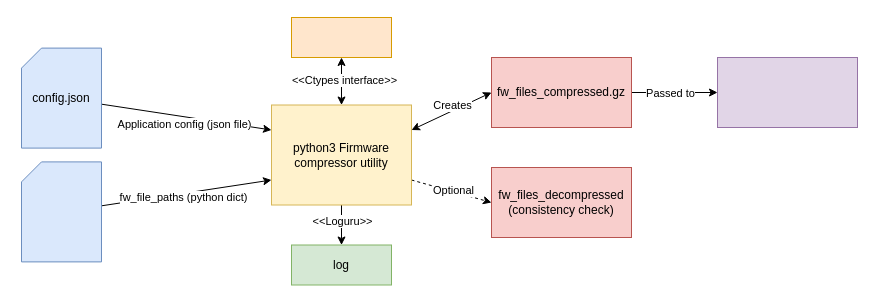
Image size: 875x303. Some labels were removed from this diagram. Each missing label, with the box of its shape:
context_file.dbin: (716, 56, 858, 128)
fw_file_config.py: (20, 161, 102, 262)
libfw_img.so: (290, 16, 392, 58)
